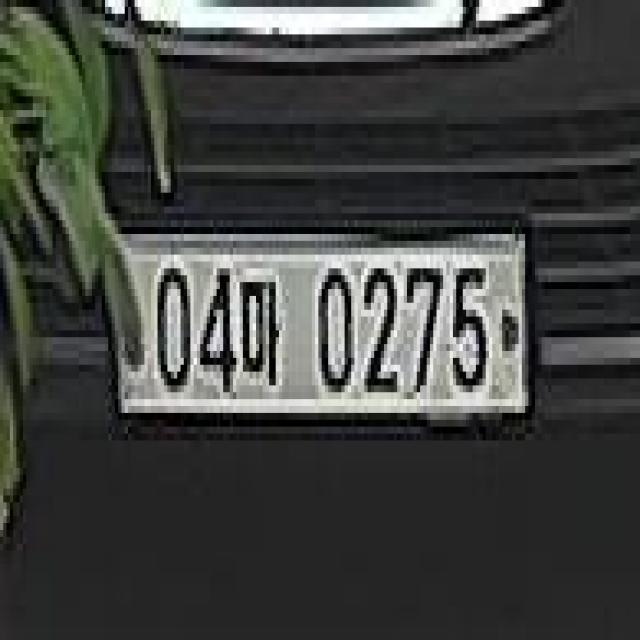illegal_plate: (111, 220, 531, 446)
